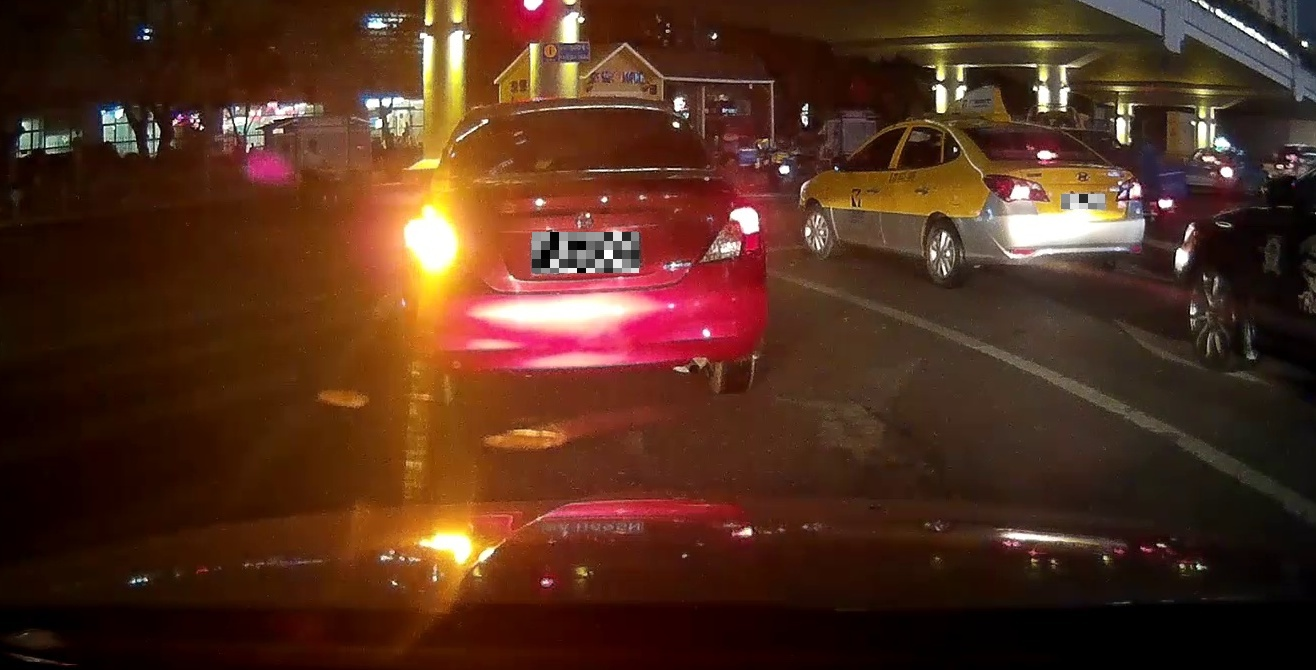L_light: (409, 205, 474, 275), (982, 174, 1049, 202)
R_light: (698, 204, 763, 264), (1115, 176, 1143, 201)
T_light: (559, 105, 597, 119), (1036, 150, 1059, 160)
night-brake: (961, 118, 1146, 286)
night-left: (405, 96, 768, 407)
plate_1: (532, 232, 639, 273)
plate_2: (1061, 194, 1105, 209)
